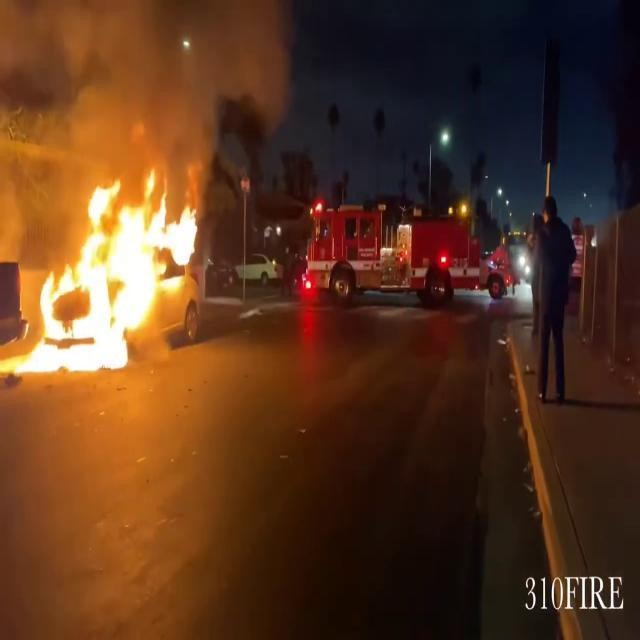Fire: (15, 163, 204, 376)
Smoke: (1, 0, 299, 173)
